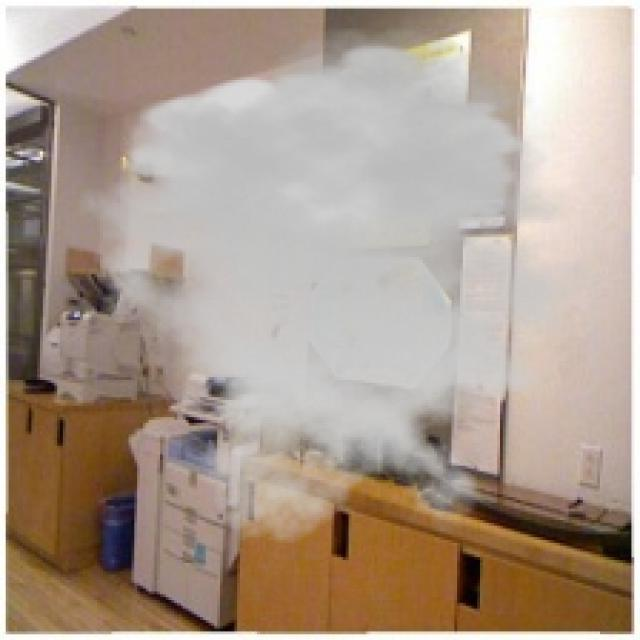Smoke: (68, 26, 634, 546)
